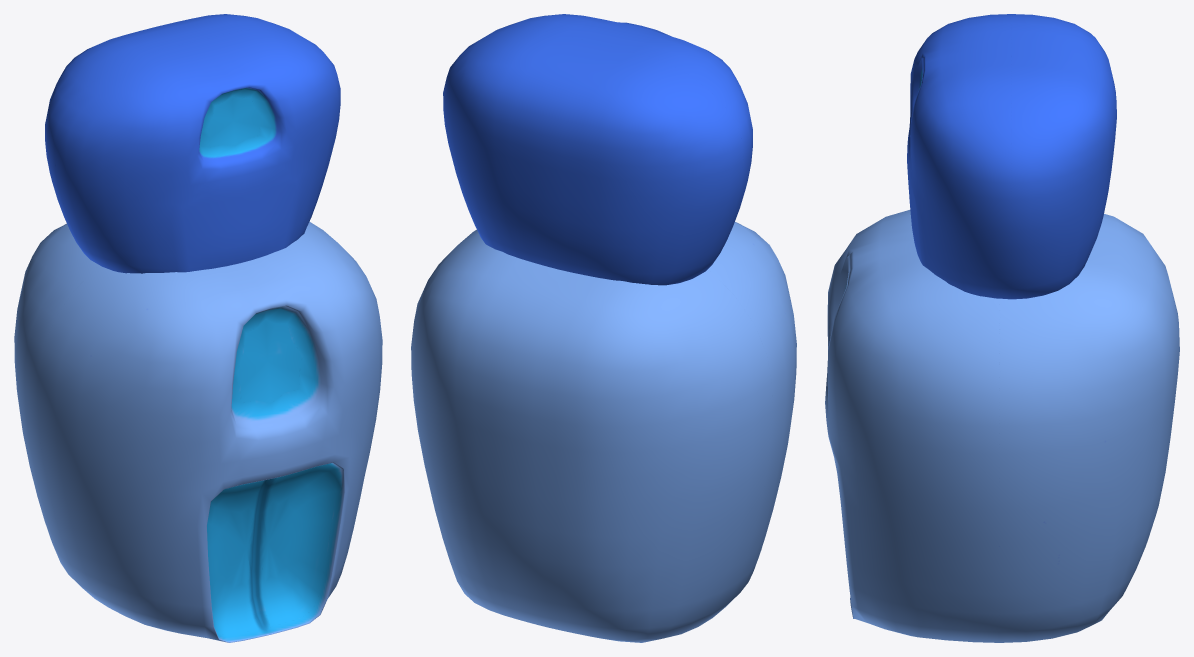
Rendered from House4.fbx.
3 views of the same model, side by side, from view 1: azimuth 30°, elevation 25°; view 2: azimuth 150°, elevation 25°; view 3: azimuth 270°, elevation 25° (orthographic). The views are drawn at different scales.
Parts seen in each view (by area): view 1: Roundcube, Roundcube.001; view 2: Roundcube, Roundcube.001; view 3: Roundcube, Roundcube.001.
Boxes of the visible parts, box(x1,y1,x2,y2) form: Roundcube: box(14, 221, 382, 642); Roundcube.001: box(45, 14, 340, 273); Roundcube: box(411, 222, 796, 642); Roundcube.001: box(443, 14, 752, 285); Roundcube: box(825, 210, 1179, 642); Roundcube.001: box(907, 14, 1116, 299).
Size of the model in its own units: 192 by 309 by 179.
1 material, 1 textured.
